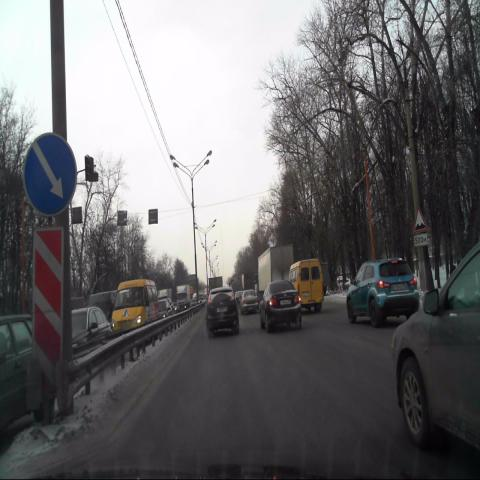1_16: (414, 207, 428, 233)
